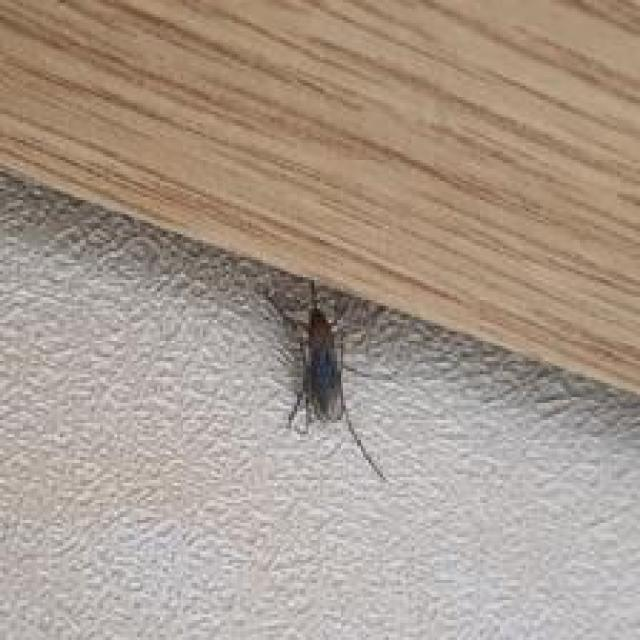Culex: (258, 277, 396, 483)
